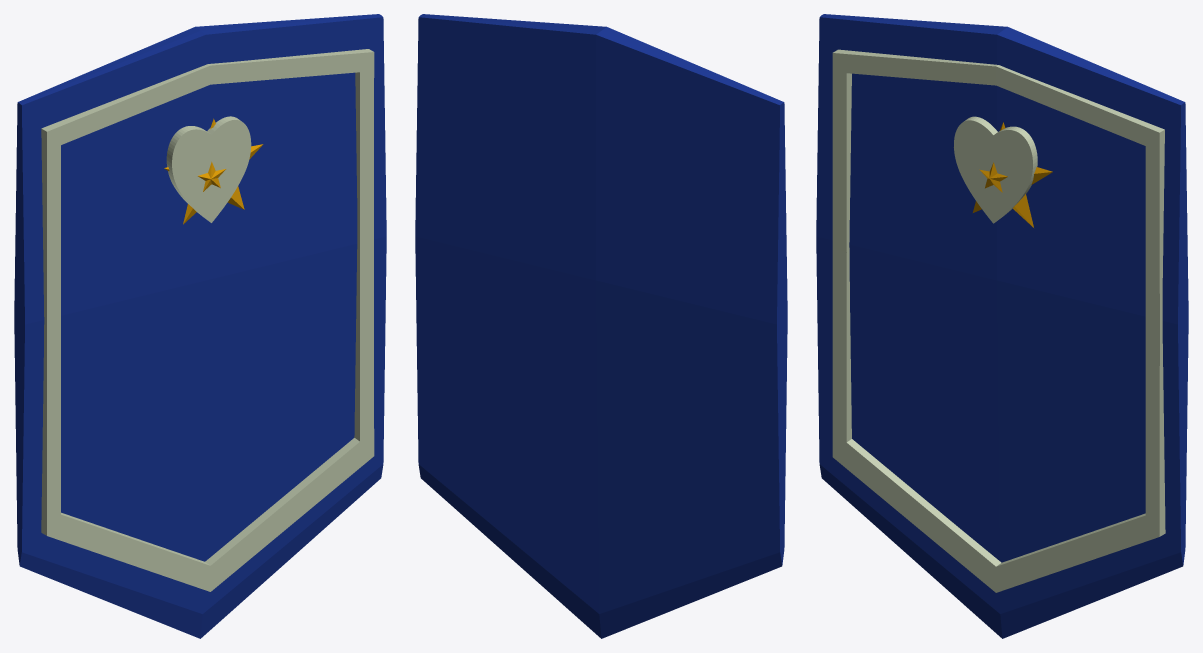
Rendered from shields.gltf.
3 views of the same model, side by side, from view 1: azimuth 30°, elevation 25°; view 2: azimuth 150°, elevation 25°; view 3: azimuth 330°, elevation 25° (orthographic).
Parts seen in each view (by area): view 1: FollowerShield, Cornice, Cuore, Stella; view 2: FollowerShield; view 3: FollowerShield, Cornice, Cuore, Stella.
Part boxes in pixels (bbox=[...]): FollowerShield: bbox=[14, 14, 386, 638]; Cornice: bbox=[41, 49, 374, 591]; Cuore: bbox=[166, 116, 251, 222]; Stella: bbox=[164, 118, 263, 224]; FollowerShield: bbox=[415, 14, 787, 638]; FollowerShield: bbox=[816, 14, 1188, 638]; Cornice: bbox=[832, 49, 1165, 592]; Cuore: bbox=[954, 116, 1037, 223]; Stella: bbox=[973, 122, 1052, 227].
Bounding box in the file's own units: 0.0604 × 0.0971 × 0.00495.
